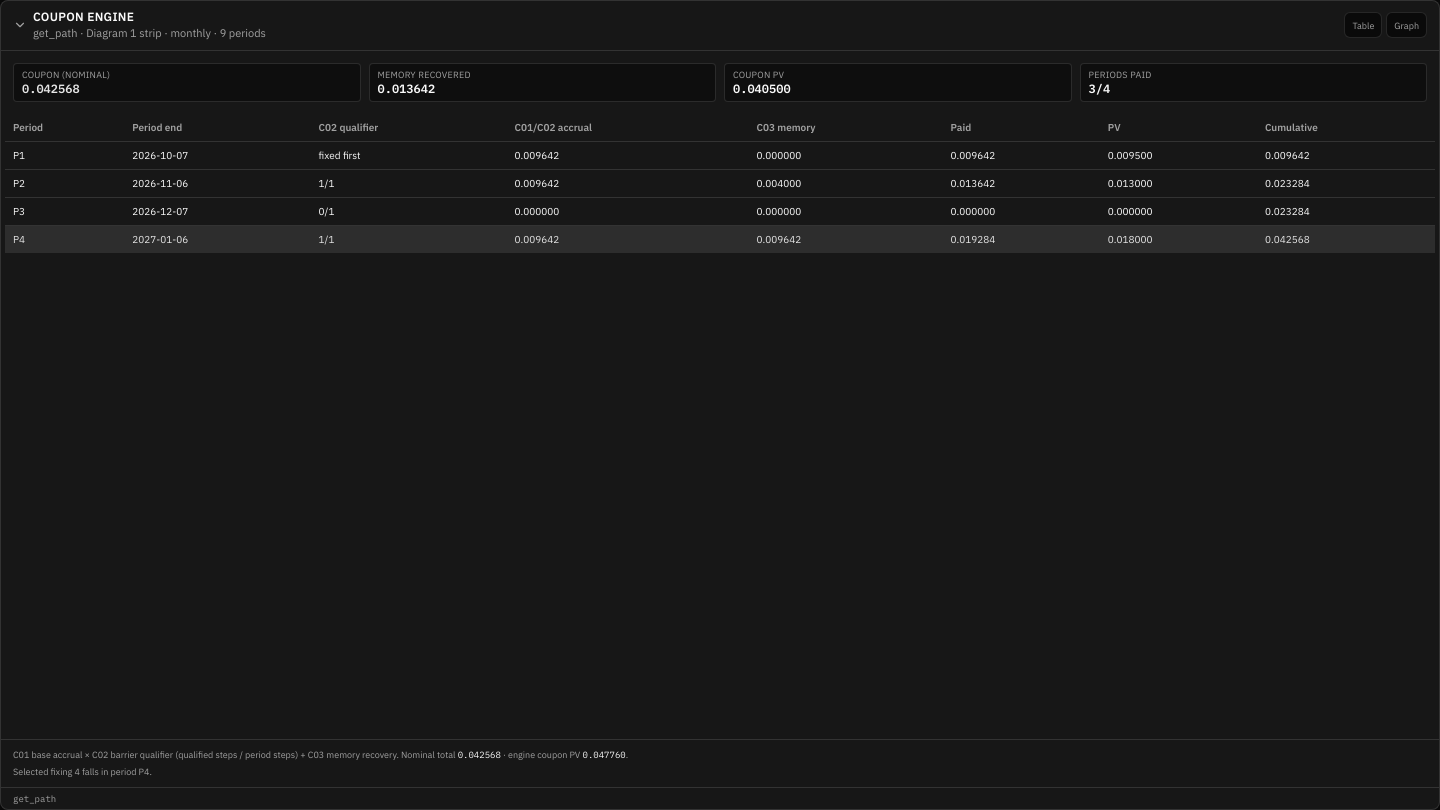
Test: coupon engine tile › switches to the graph view
Check: the column heading "C02 qualifier" is shown, box [311,114,506,142]
Click the button with test id "coupon-engine-view-graph": (1407, 25) [1386,12,1427,38]
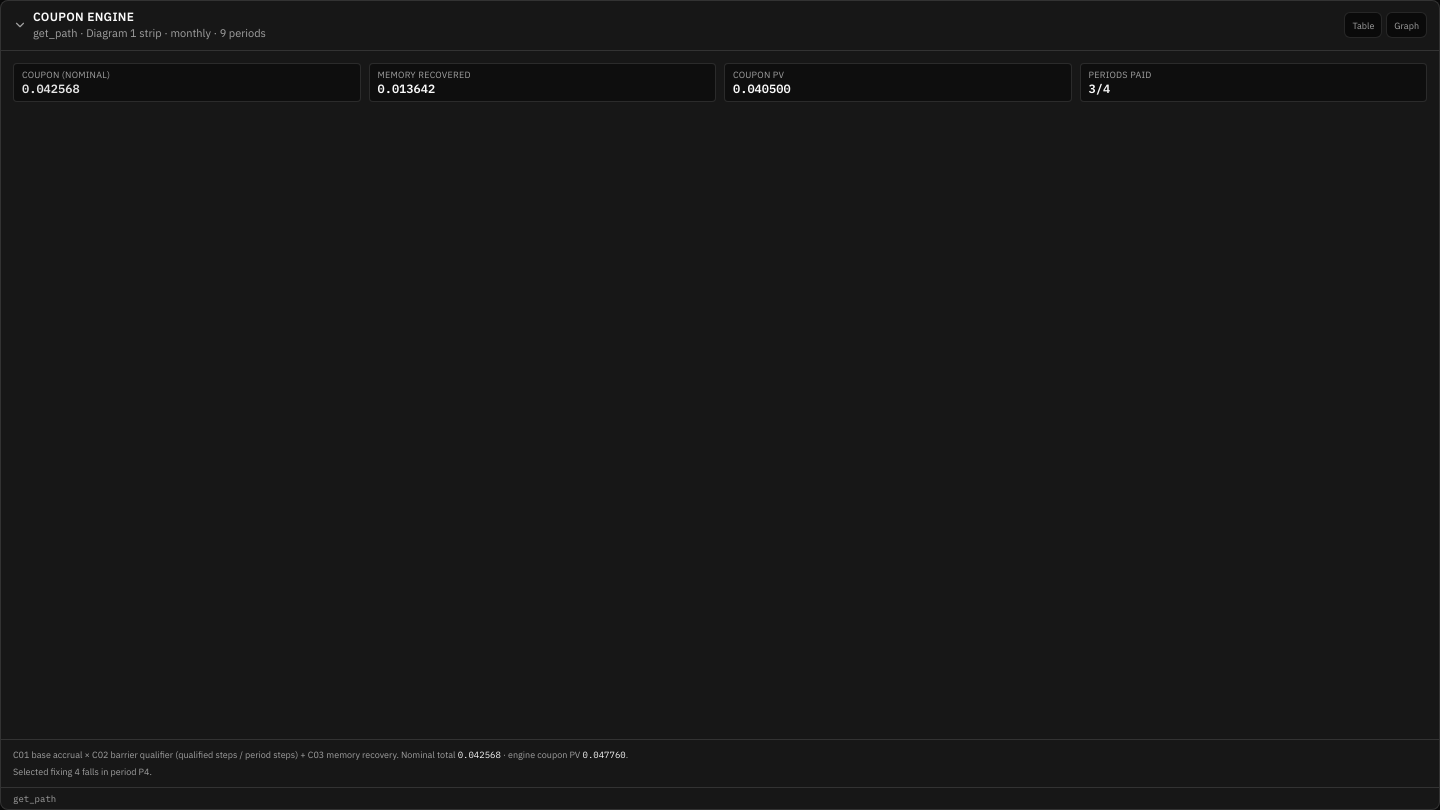
Check: the element with test id "coupon-engine-graph" is shown
